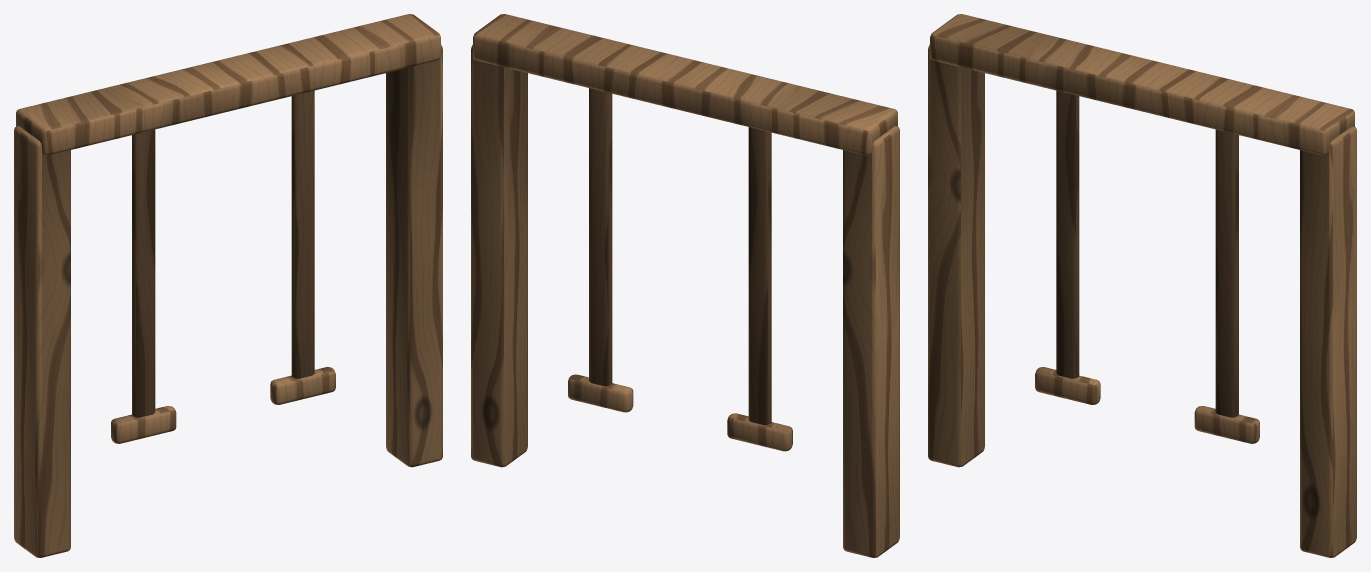
Rendered from p_swordrack.glb.
The picture shows the model from 3 angles, left to right: view 1: azimuth 30°, elevation 25°; view 2: azimuth 150°, elevation 25°; view 3: azimuth 330°, elevation 25°; orthographic projection.
Parts seen in each view (by area): view 1: swordrack; view 2: swordrack; view 3: swordrack.
Part boxes in pixels (<box>): swordrack: <box>14,14,442,557</box>; swordrack: <box>471,14,899,557</box>; swordrack: <box>928,14,1356,557</box>.
Bounding box in the file's own units: 0.92 × 0.93 × 0.12.
Materials: 1 (1 with a texture image).
